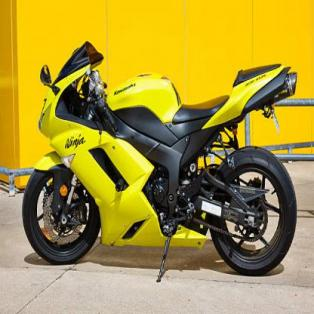Motocicleta: (21, 30, 304, 286)
